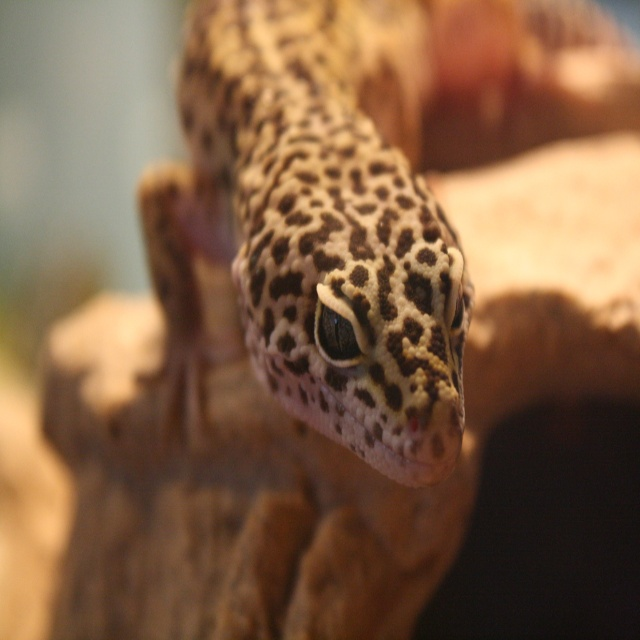Lizard: (137, 1, 619, 489)
